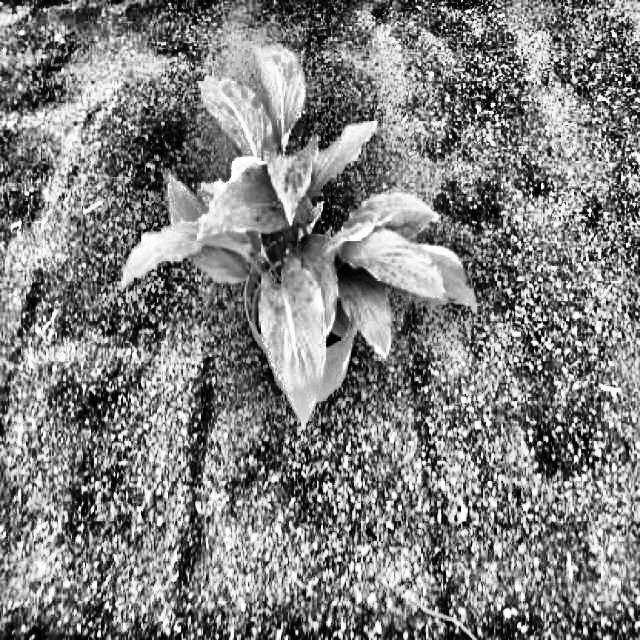plants: (112, 44, 476, 430)
